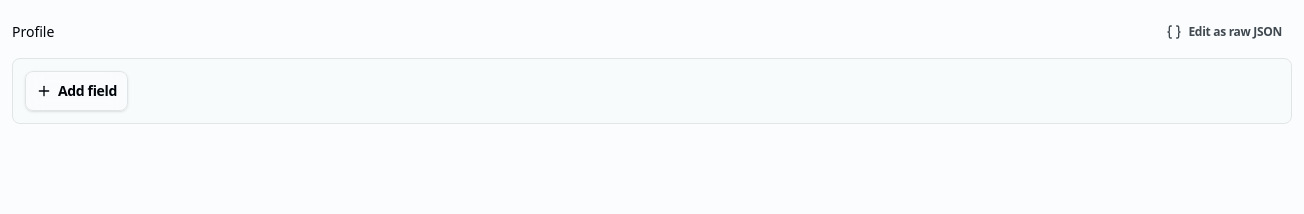
Test: JsonObjectField › shows an inline error on invalid JSON and does not emit garbage
Click the button "Edit as raw JSON". click: (1224, 32)
box: [1156, 12, 1292, 52]
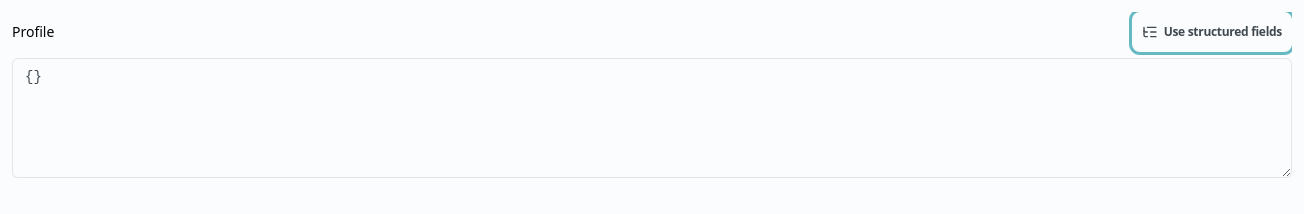
Type "not json" into the text box named "Profile (raw JSON)". click: (652, 118)
box: [12, 58, 1292, 178]
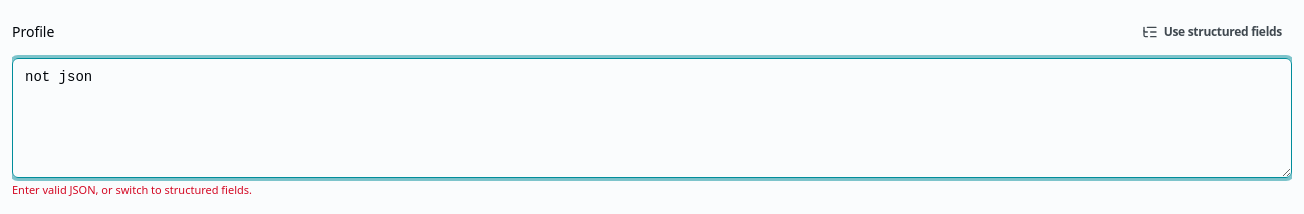
Now the text "Enter valid JSON, or switch to structured fields." is shown, box [12, 182, 252, 197]
